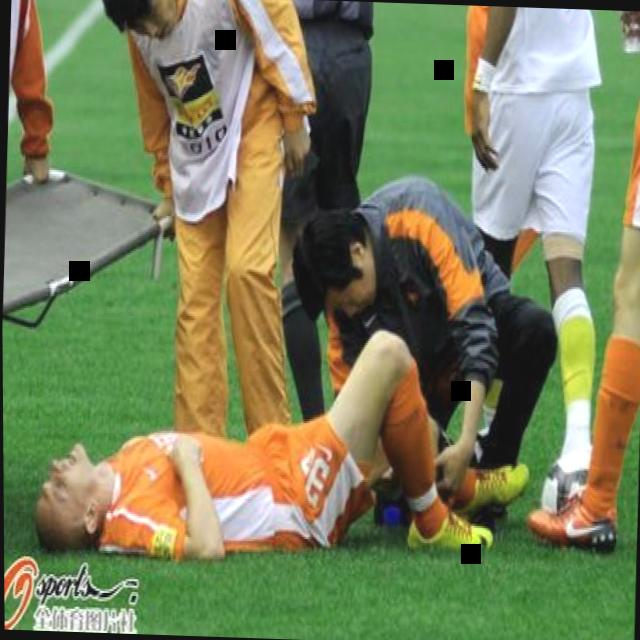Fall-Detected: (13, 314, 536, 572)
